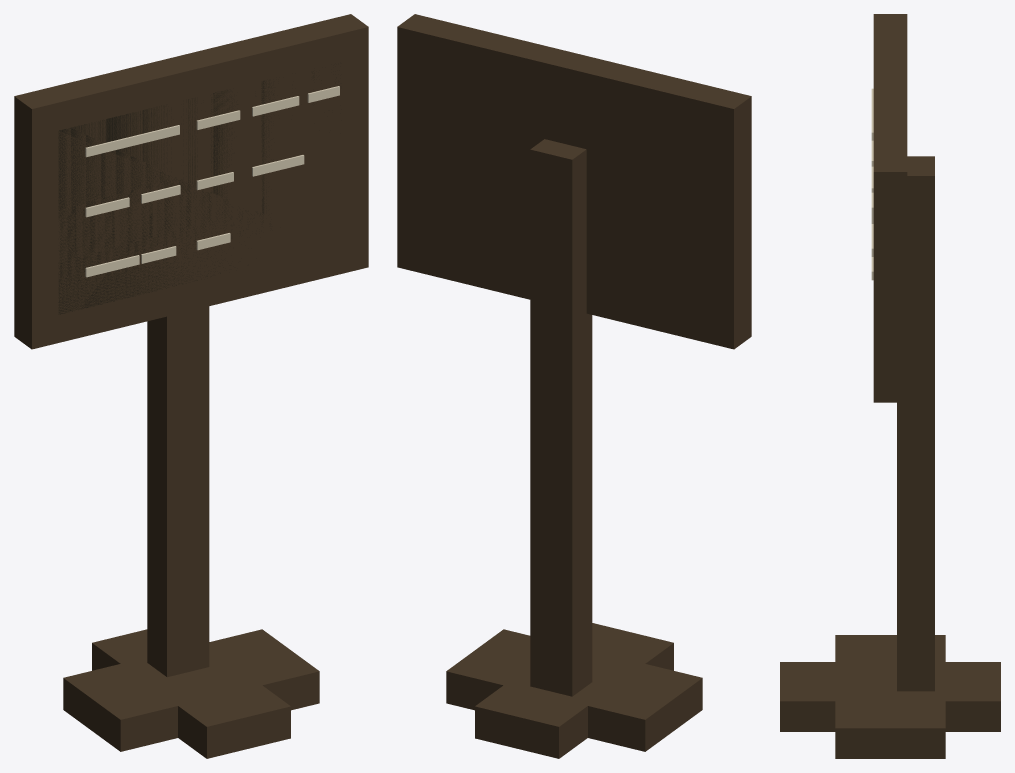
File: MarketSlateBoard.fbx
The picture shows the model from 3 angles, left to right: view 1: azimuth 30°, elevation 25°; view 2: azimuth 150°, elevation 25°; view 3: azimuth 270°, elevation 25°; orthographic projection. The views are drawn at different scales.
Visible parts, largest first — view 1: MarketSlateBoard; view 2: MarketSlateBoard; view 3: MarketSlateBoard.
Part boxes in pixels (x1,y1,x2,y2): MarketSlateBoard: [14, 14, 368, 758]; MarketSlateBoard: [397, 14, 751, 758]; MarketSlateBoard: [780, 14, 1000, 758].
Size of the model in its own units: 88 by 161 by 52.
3 materials, 3 textured.
